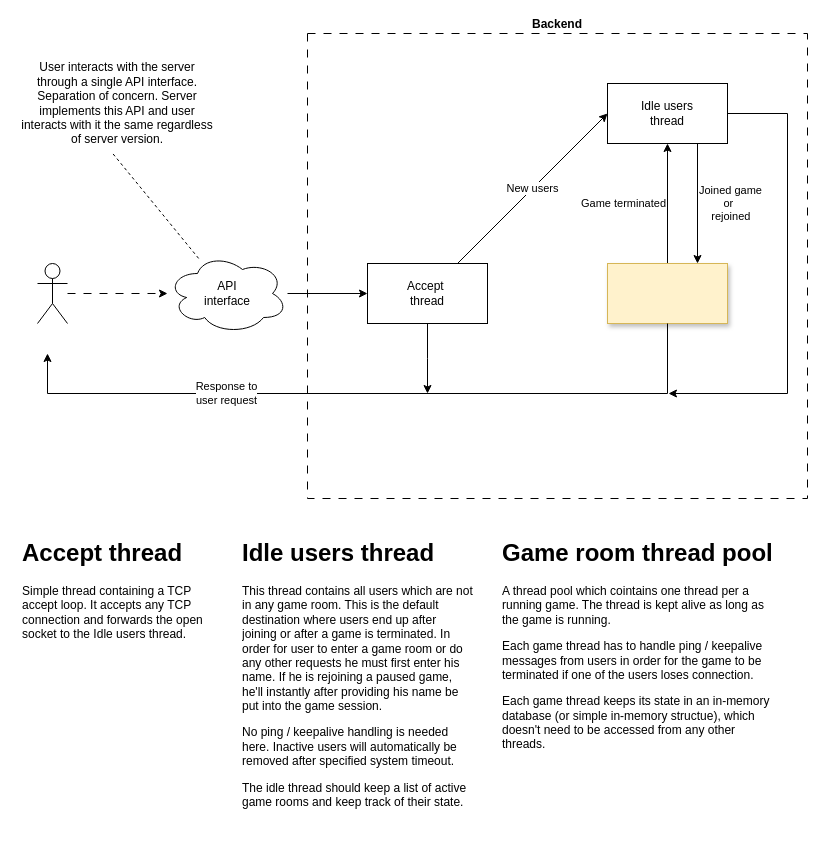
The diagram is 825 pixels wide and 860 high, and some of its shapes have lost their labels. The centre of each missing label's shape, as x and y in pixels:
Client: point 52,293
Game room thread pool: point 668,294
